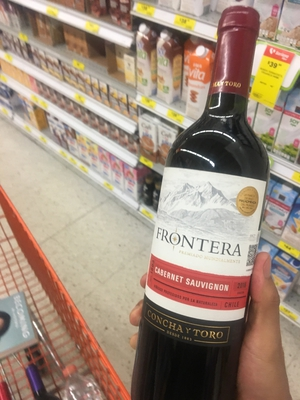frontera cabernet sauvignon: (124, 33, 279, 386)
